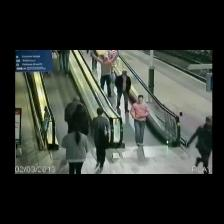person: (62, 114, 88, 173), (187, 117, 212, 173), (93, 108, 109, 171), (92, 54, 114, 97), (131, 95, 148, 146), (65, 96, 84, 133), (115, 70, 131, 112), (75, 105, 88, 135), (60, 50, 69, 74), (92, 58, 97, 70)
